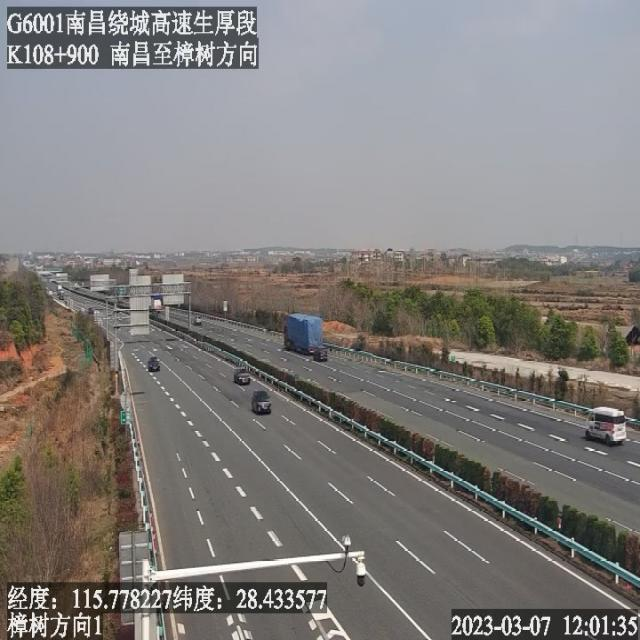point: (31, 262, 73, 303)
